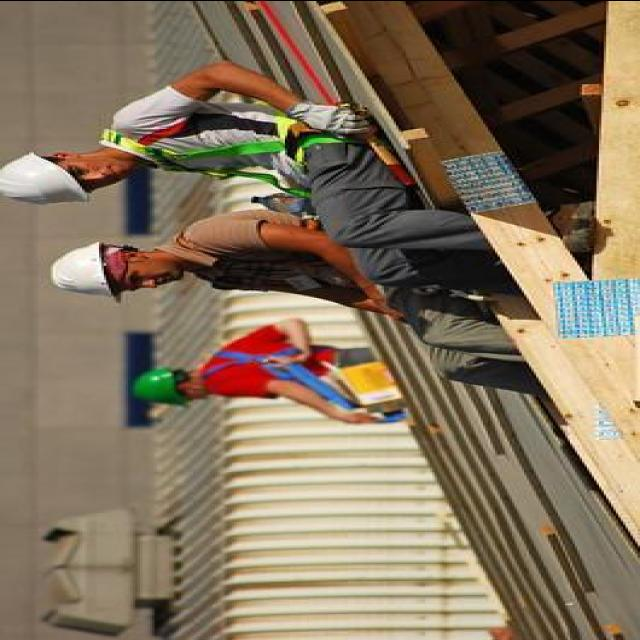helmet: (0, 146, 113, 212), (48, 236, 126, 316), (132, 362, 190, 409)
